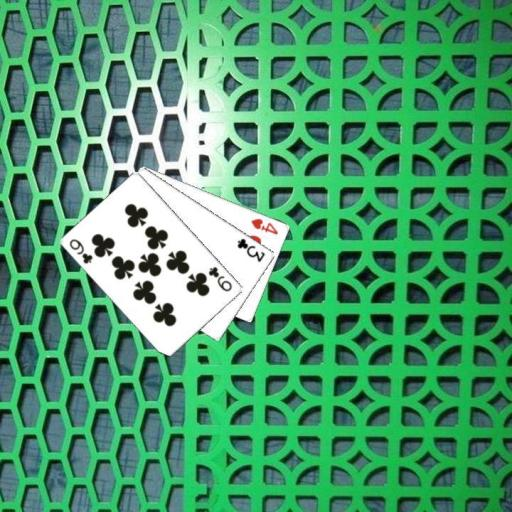3C: (234, 235, 267, 263)
4H: (248, 215, 280, 236)
9C: (205, 263, 234, 293), (66, 236, 95, 266)
